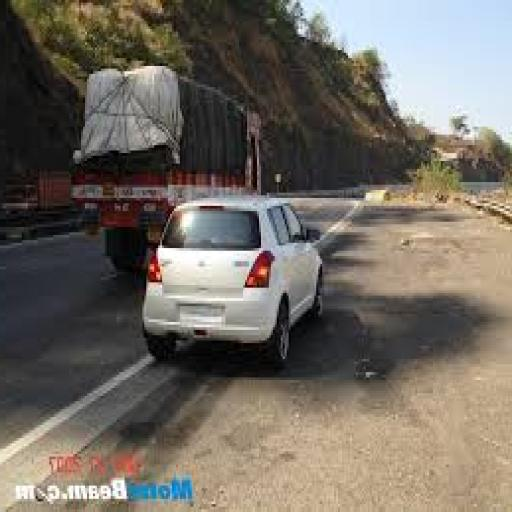License: (177, 300, 226, 329)
